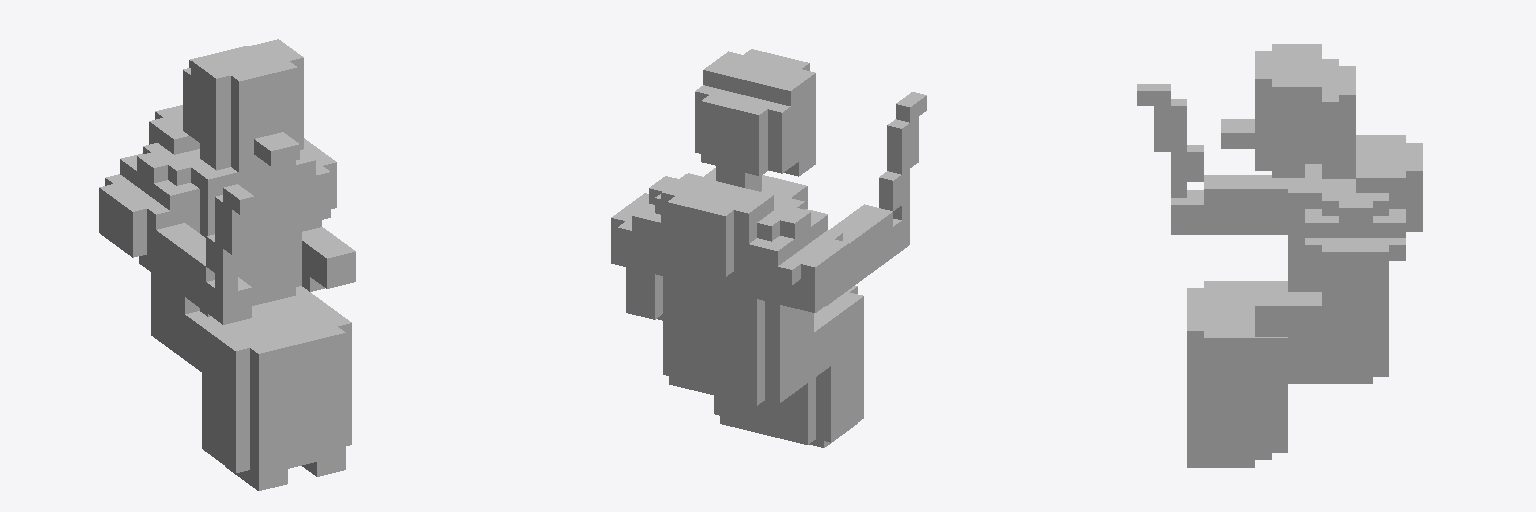
File: Monkv2 13.obj
3 views of the same model, side by side, from view 1: azimuth 30°, elevation 25°; view 2: azimuth 150°, elevation 25°; view 3: azimuth 270°, elevation 25° (orthographic).
Visible parts, largest first — view 1: Monkv2 13; view 2: Monkv2 13; view 3: Monkv2 13.
Boxes of the visible parts, x1,y1,x2,y2 form: Monkv2 13: [99, 39, 355, 490]; Monkv2 13: [611, 49, 926, 447]; Monkv2 13: [1137, 44, 1422, 467].
Size of the model in its own units: 0.7 by 1.25 by 0.85.